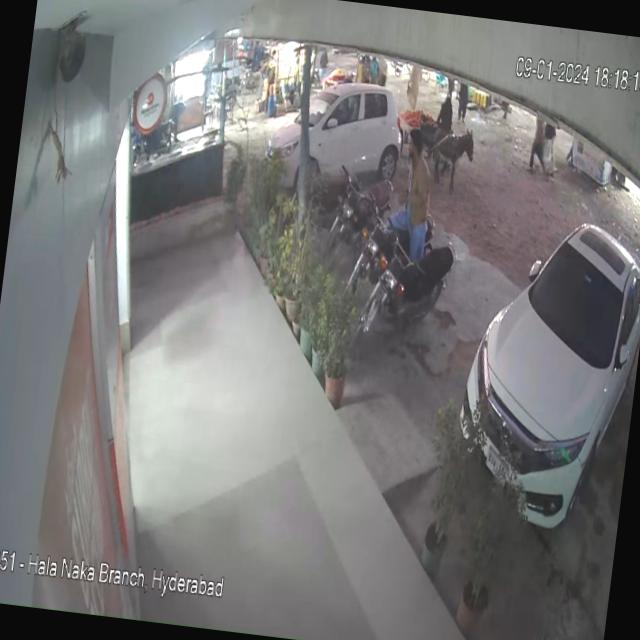Car: (444, 167, 640, 548), (243, 57, 412, 190)
Motorcycle: (346, 247, 464, 366), (336, 198, 442, 306), (328, 163, 400, 257)
